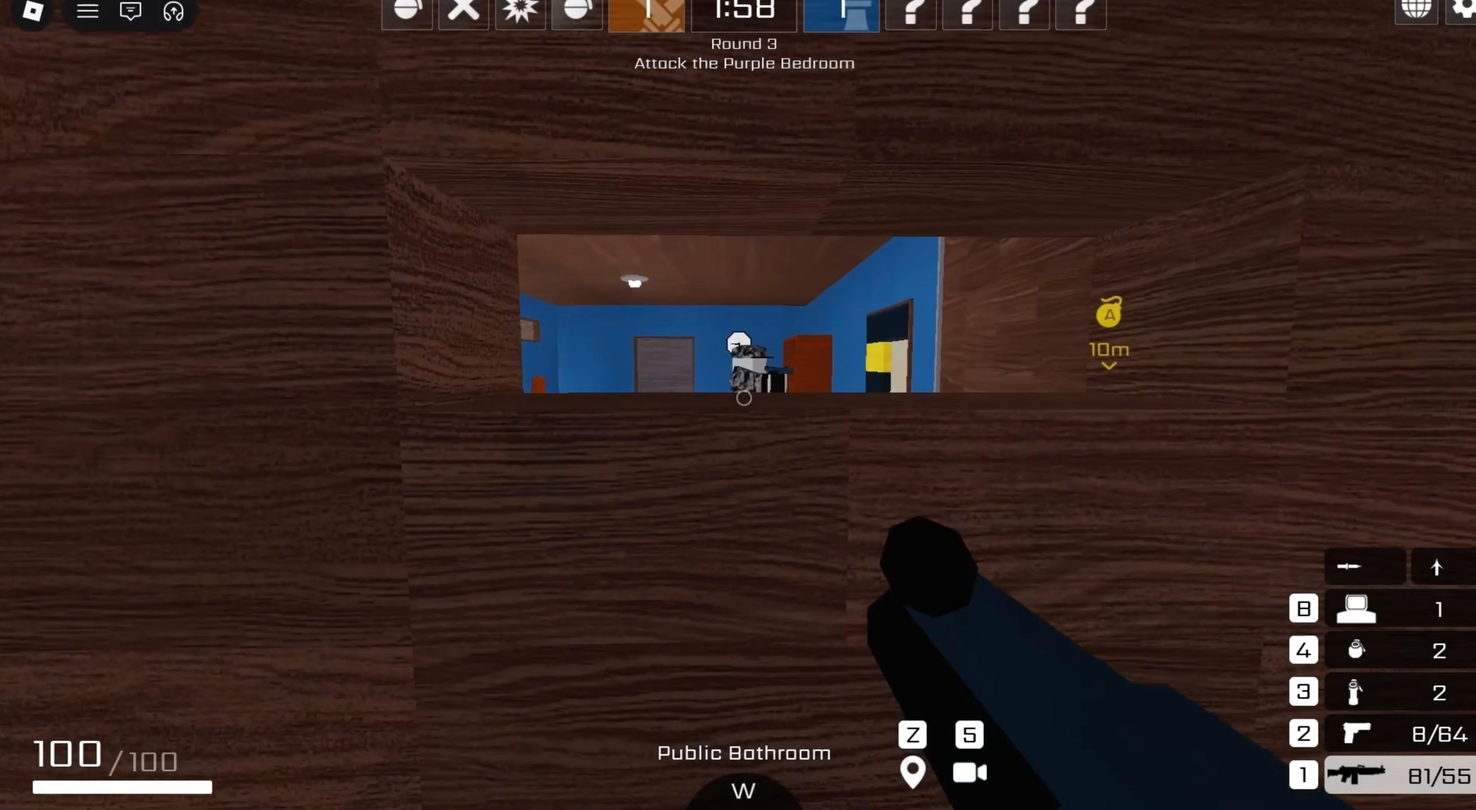enemy: (722, 337, 792, 413)
